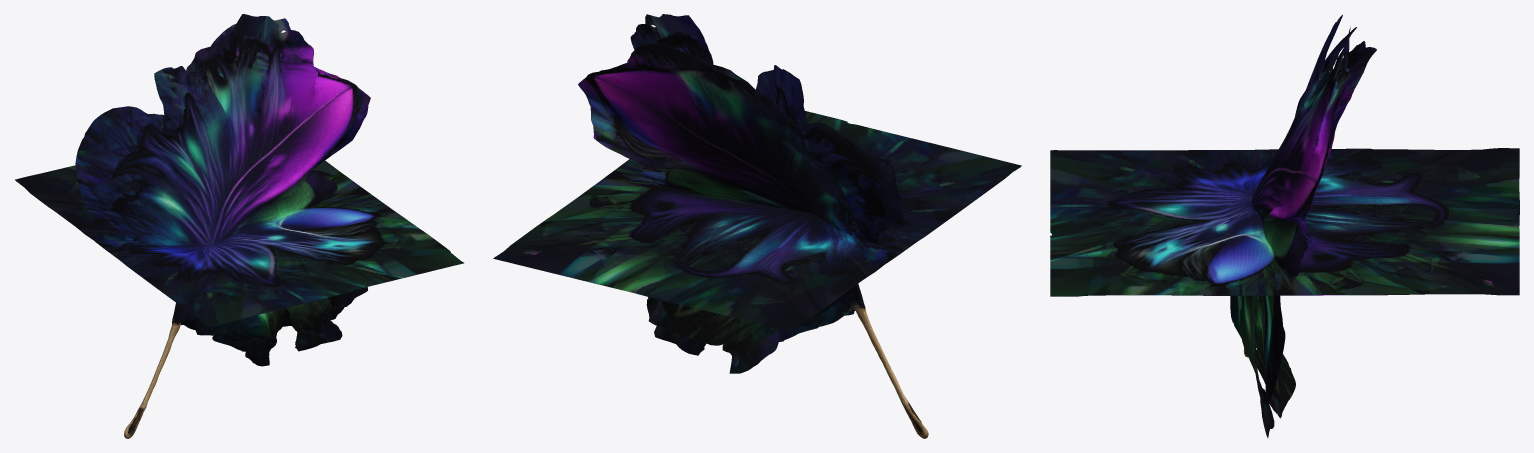
File: feather-hairpin-3d.jpeg.glb
3 views of the same model, side by side, from view 1: azimuth 30°, elevation 25°; view 2: azimuth 150°, elevation 25°; view 3: azimuth 270°, elevation 25° (orthographic). The views are drawn at different scales.
Visible parts, largest first — view 1: world; view 2: world; view 3: world.
Boxes of the visible parts, x1,y1,x2,y2 form: world: (15,14,463,438); world: (493,14,1021,438); world: (1050,14,1519,438).
Bounding box in the file's own units: 0.8344 × 0.9944 × 1.
1 material, 1 textured.
